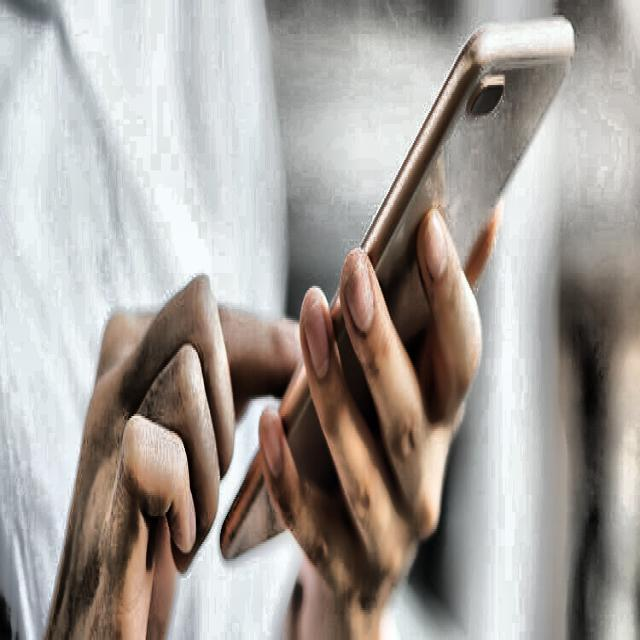Phone: (218, 16, 576, 568)
